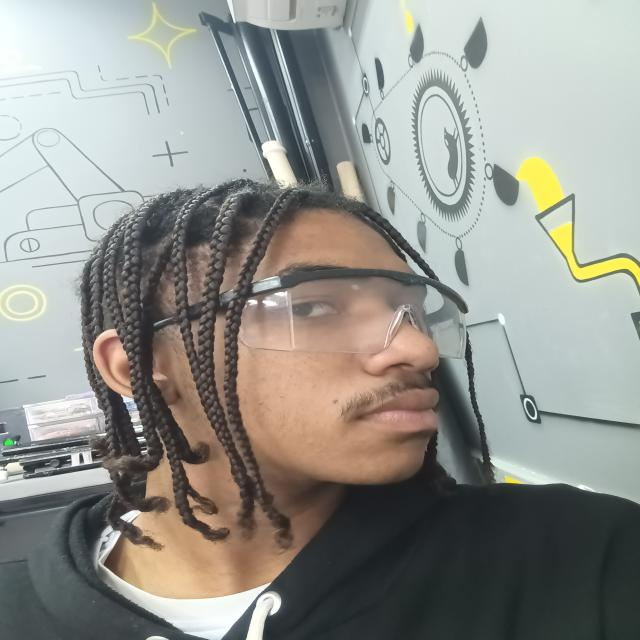oculos-epi: (240, 268, 467, 358)
